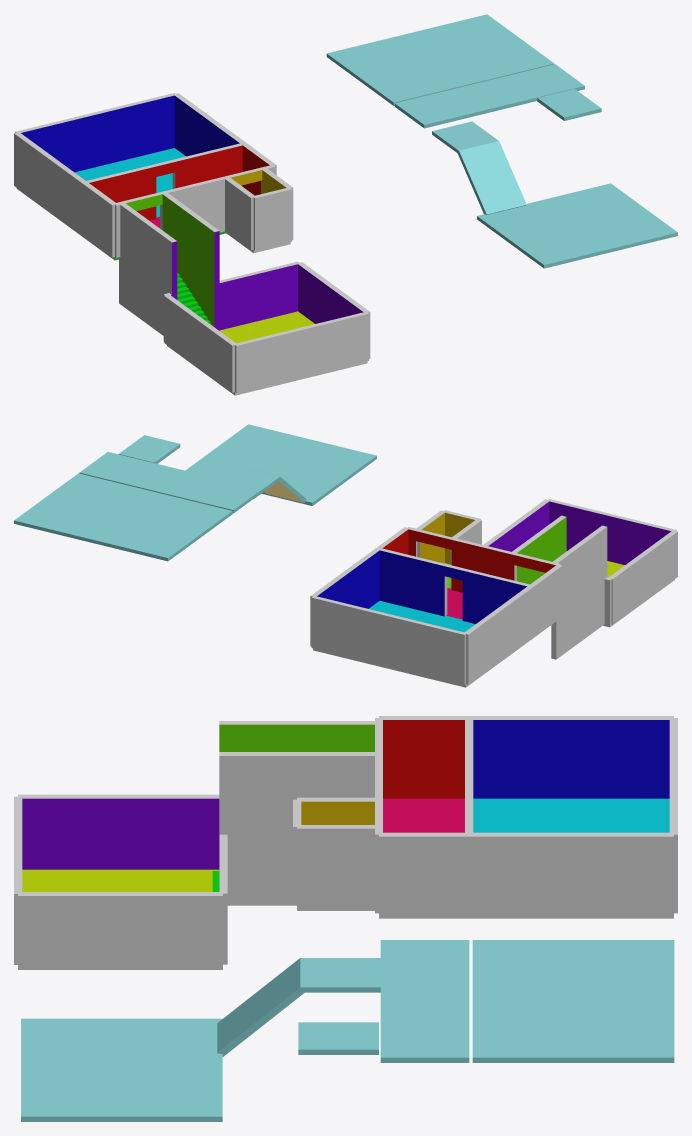
Rendered from room1.fbx.
3 views of the same model, one above another, from view 1: azimuth 30°, elevation 25°; view 2: azimuth 150°, elevation 25°; view 3: azimuth 270°, elevation 25° (orthographic). The views are drawn at different scales.
Visible parts, largest first — view 1: Office_Front, Clad_Ceil; view 2: Office_Front, Clad_Ceil; view 3: Office_Front, Clad_Ceil.
Boxes of the visible parts, <box> form: Office_Front: <box>14,93,370,395</box>; Clad_Ceil: <box>326,14,677,268</box>; Office_Front: <box>310,499,677,687</box>; Clad_Ceil: <box>14,424,376,561</box>; Office_Front: <box>14,716,677,969</box>; Clad_Ceil: <box>21,940,674,1121</box>.
Bounding box in the file's own units: 2833 × 610 × 2292.
